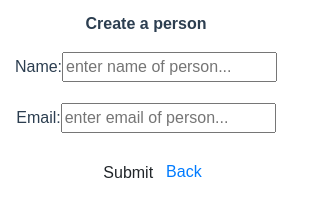
Scenario: NewPerson.Vue › NewPerson form tests › from only has email error when given name and no email
Type "cody" into the field with id "nameInput" at point(170, 67), box [62,52,277,82]
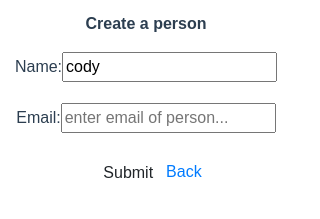
Submit the form from the button with id "submit", box [90,154,166,192]
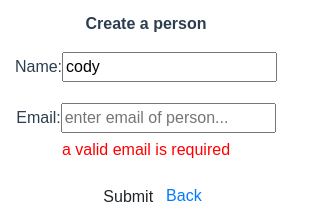
Now the text "a valid email is required" is shown, box [62,141,230,158]
